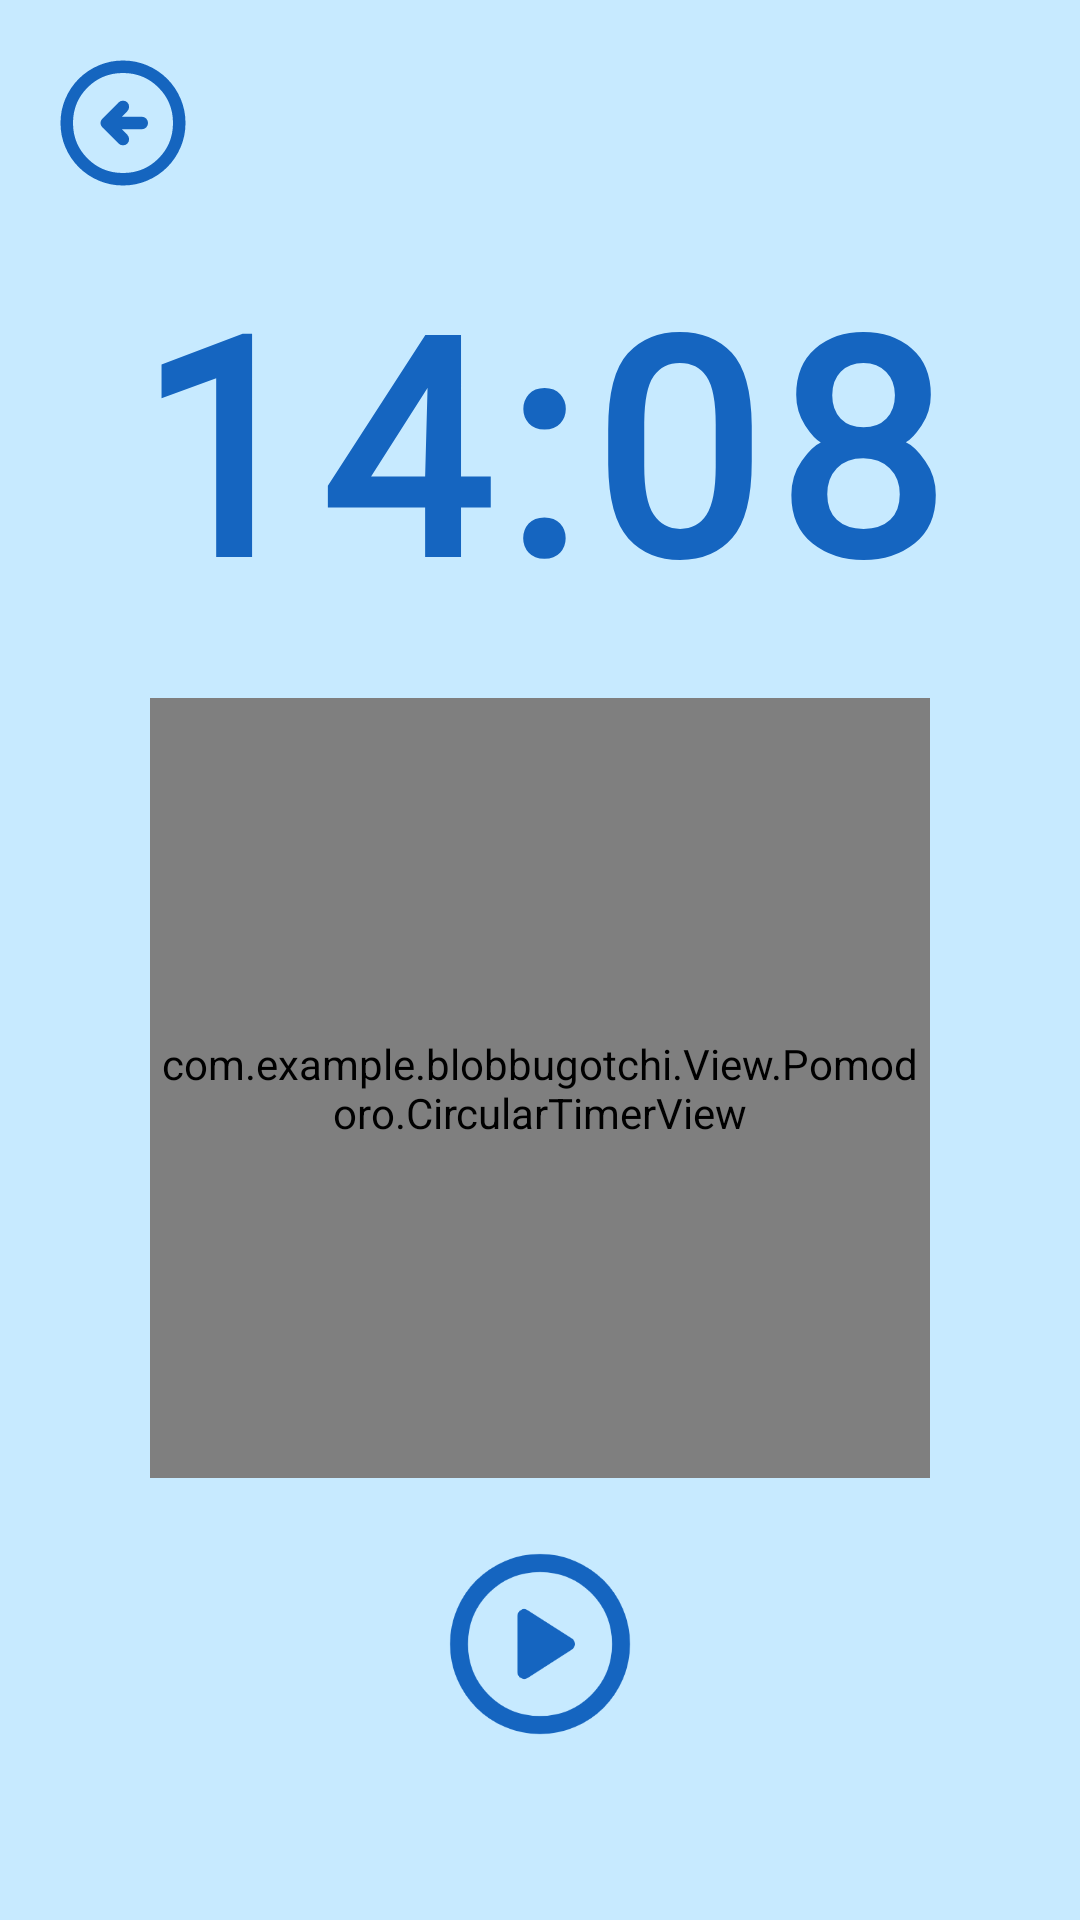

Screen size 1080w x 1920h. Icon name, then its center in pixels as point (x, y):
Iniciar o pausar: point (540, 1644)
Salir: point (123, 123)
